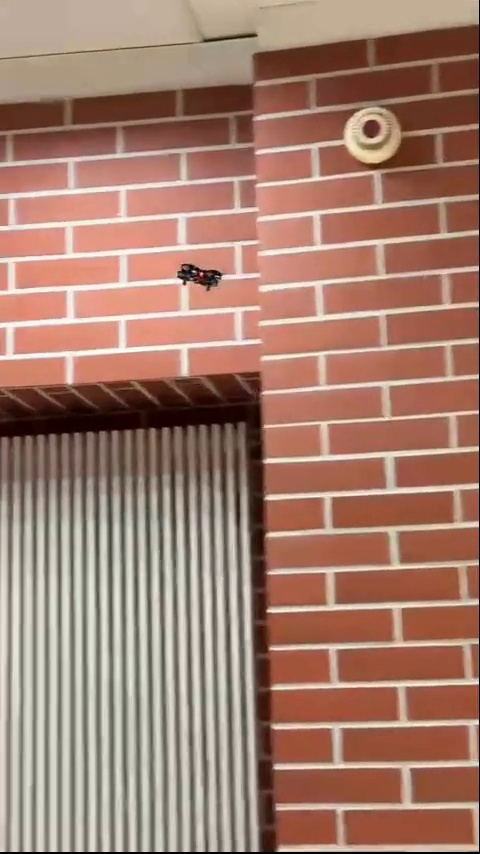drone: (179, 261, 220, 289)
